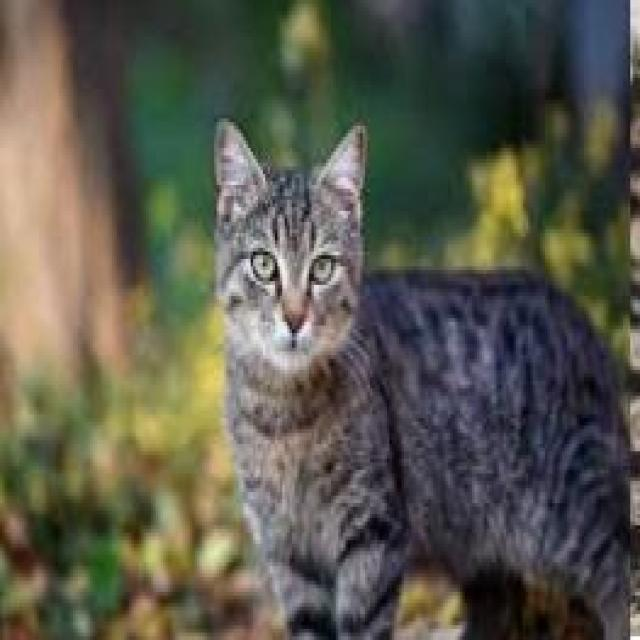Gato: (209, 111, 628, 640)
